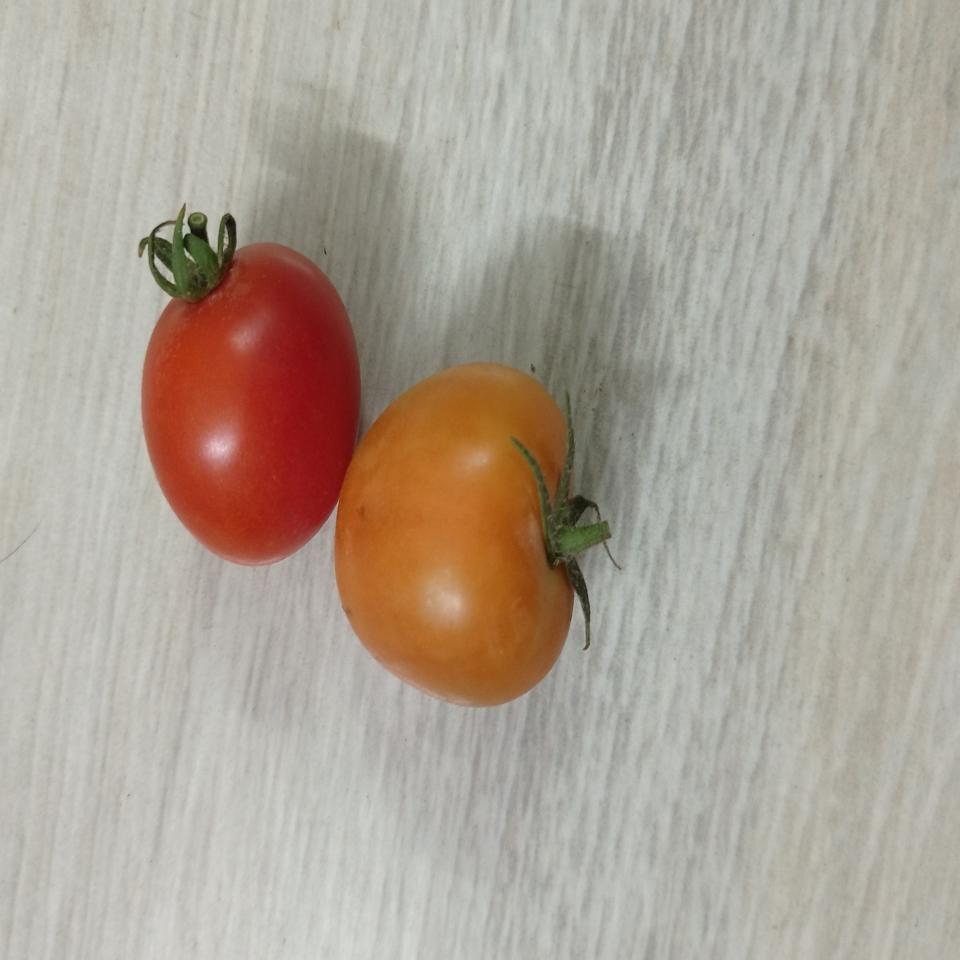Healthy: (332, 352, 608, 708), (140, 232, 369, 566)
